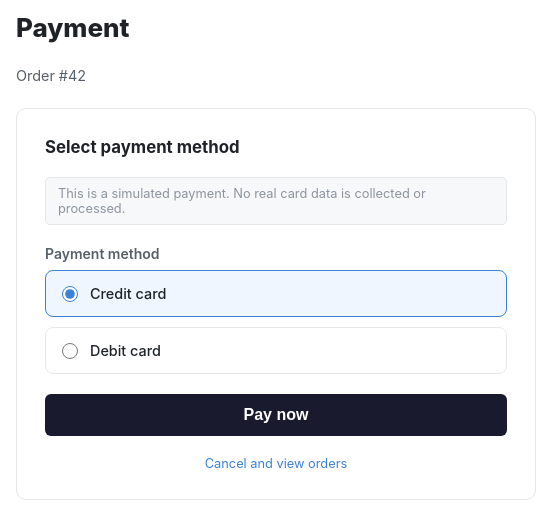
PaymentPage › displays payment amount from backend response
Click the button "Pay now": {"x": 276, "y": 415} left=45, top=394, right=507, bottom=436
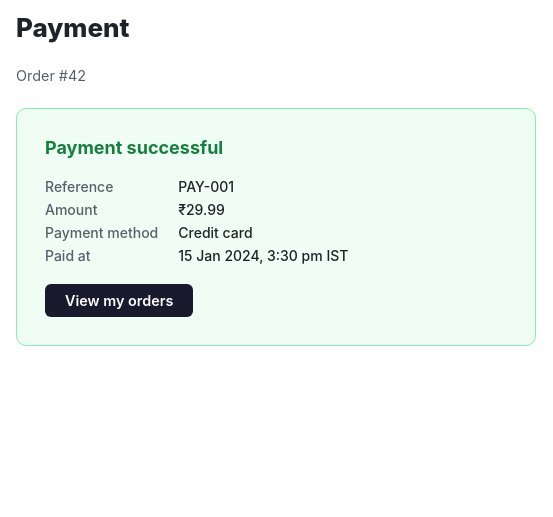
Now the text "₹29.99" is shown, box left=178, top=201, right=225, bottom=218
